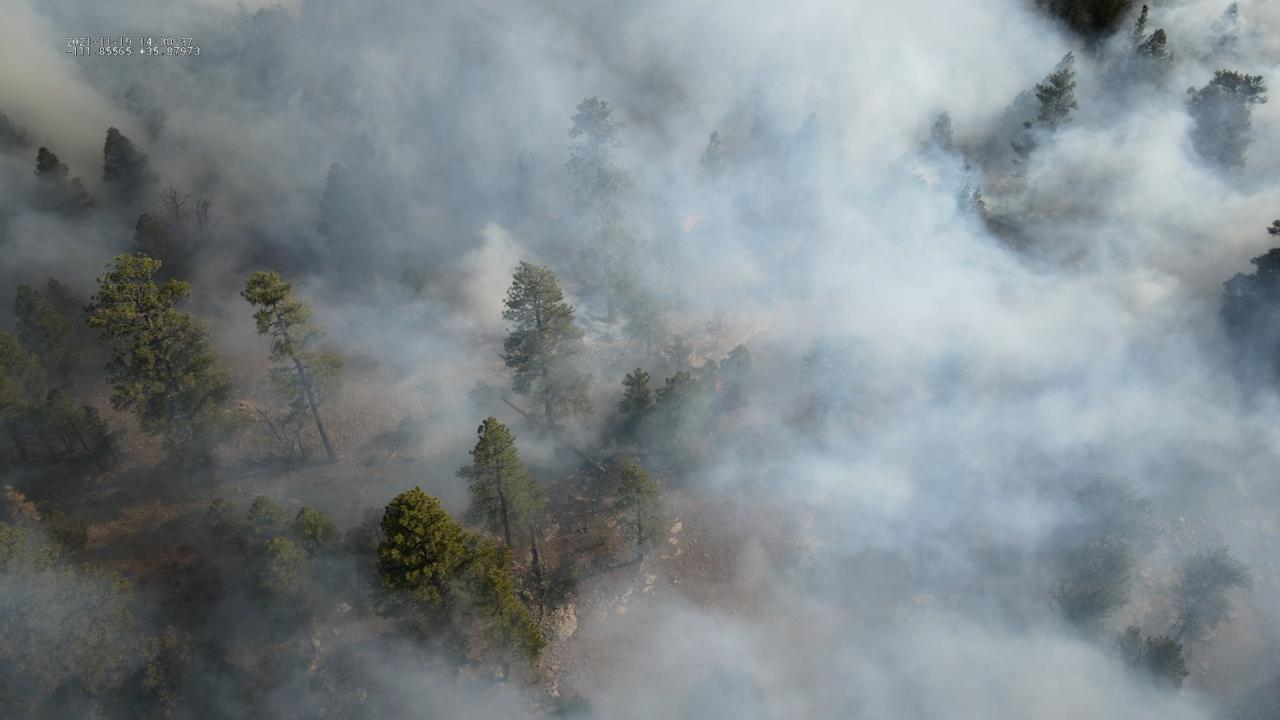fire: (678, 209, 701, 231), (712, 380, 724, 393)
smoke: (0, 0, 1280, 720)
